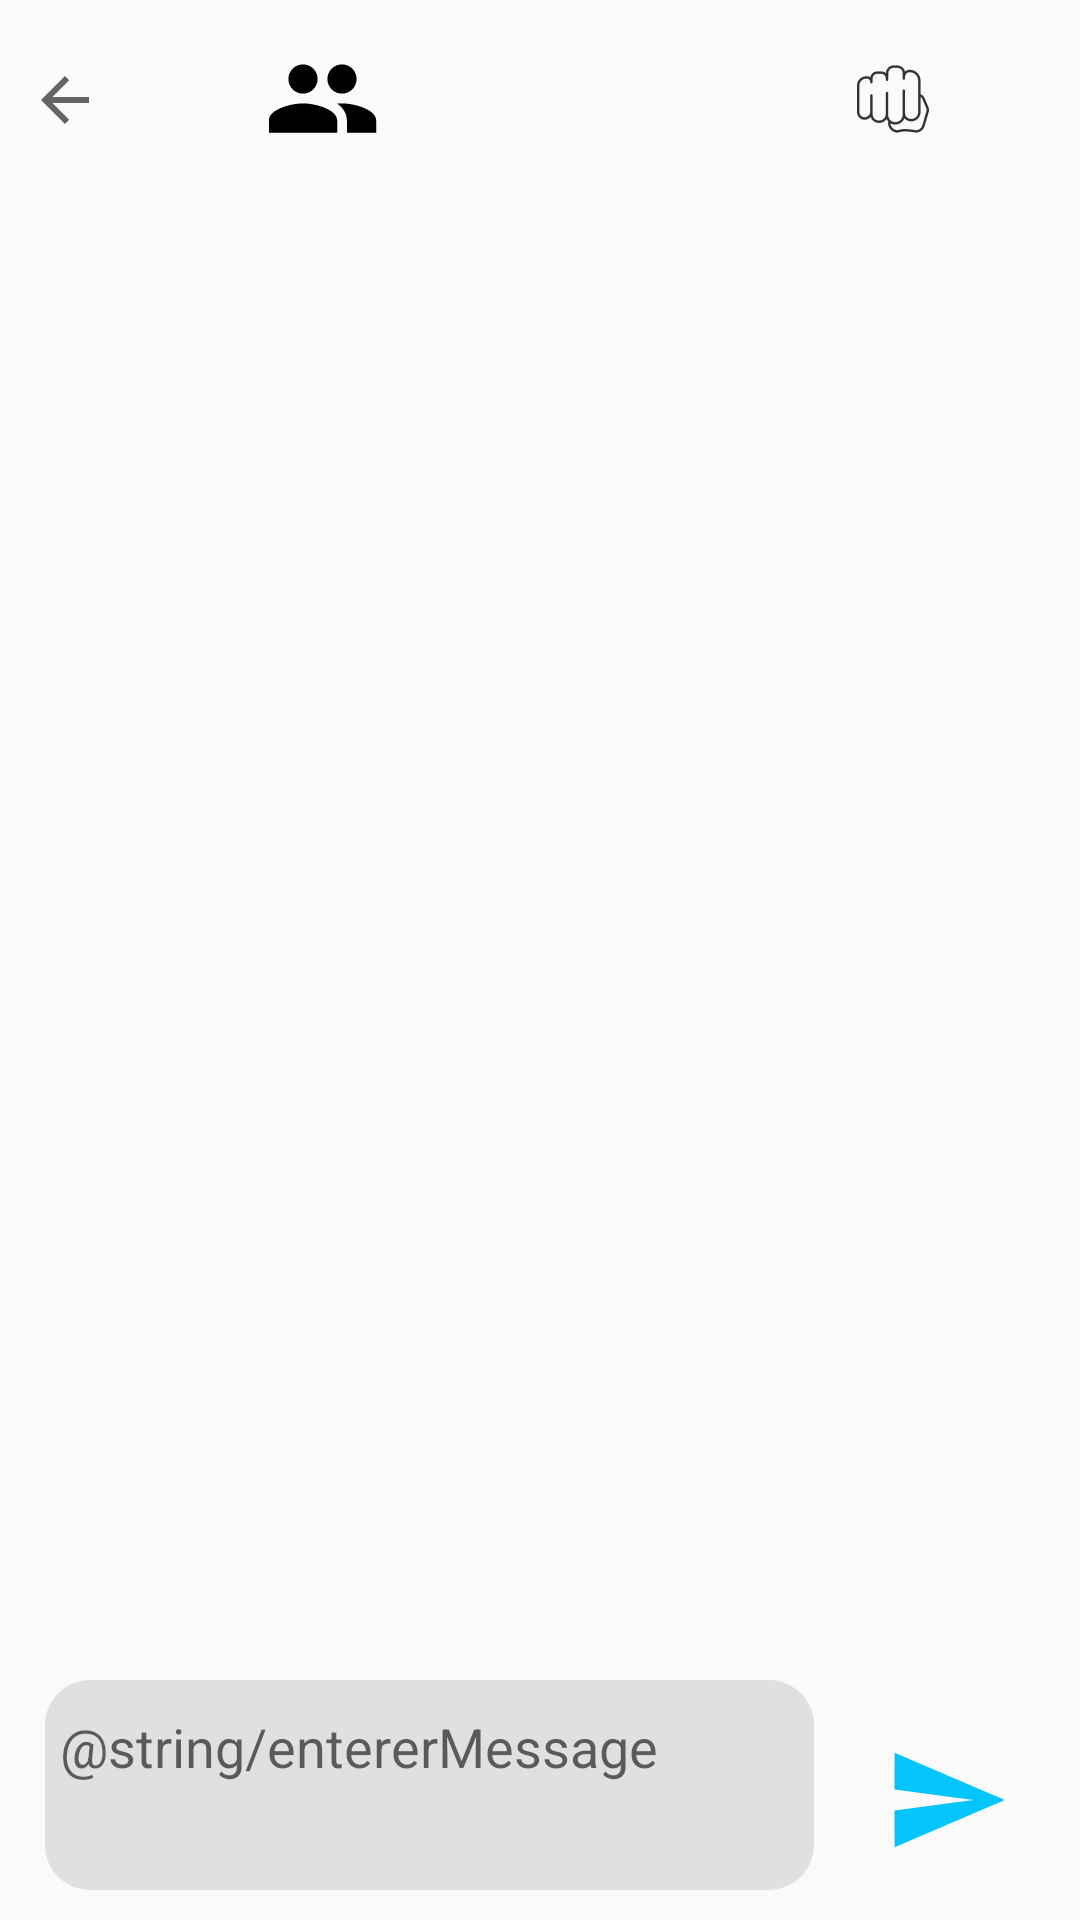

Icons on this 1080*1920 Android screen, each with its box as (x1, y1, x2, y2):
fist: (857, 65, 929, 133)
people: (269, 64, 377, 133)
send: (894, 1753, 1005, 1847)
